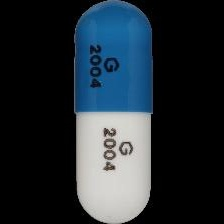59762-2004: (0, 0, 224, 224)
